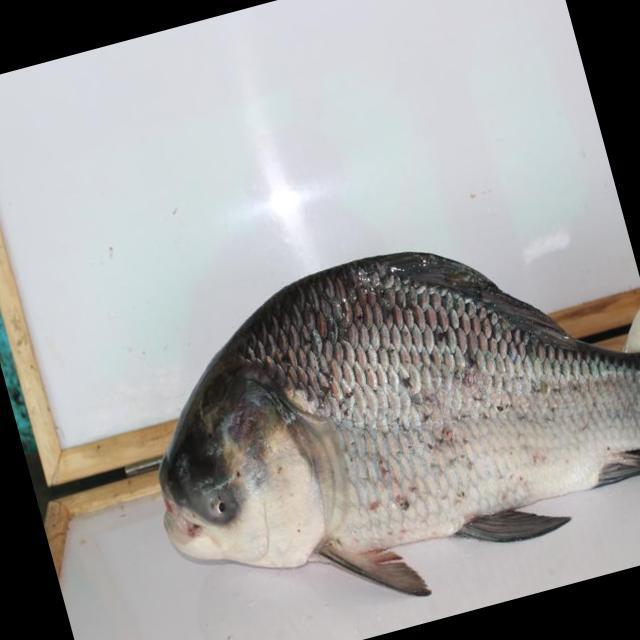Catla: (155, 248, 640, 594)
